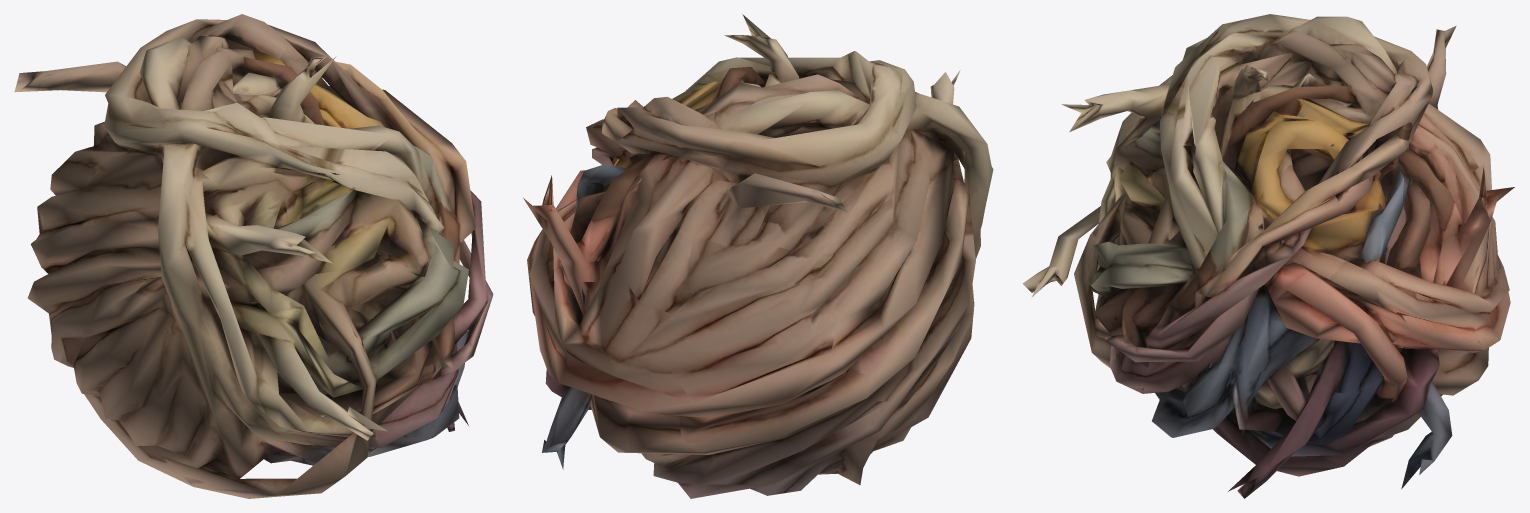
Rendered from cable-ball.glb.
3 views of the same model, side by side, from view 1: azimuth 30°, elevation 25°; view 2: azimuth 150°, elevation 25°; view 3: azimuth 270°, elevation 25° (orthographic). The views are drawn at different scales.
Visible parts, largest first — view 1: tripo_node_01a308a8-fe2e-421f-9cad-6132b33cbd5f; view 2: tripo_node_01a308a8-fe2e-421f-9cad-6132b33cbd5f; view 3: tripo_node_01a308a8-fe2e-421f-9cad-6132b33cbd5f.
Part boxes in pixels (x1=…): tripo_node_01a308a8-fe2e-421f-9cad-6132b33cbd5f: x1=14, y1=14, x2=493, y2=498; tripo_node_01a308a8-fe2e-421f-9cad-6132b33cbd5f: x1=523, y1=14, x2=993, y2=498; tripo_node_01a308a8-fe2e-421f-9cad-6132b33cbd5f: x1=1022, y1=14, x2=1514, y2=498.
Size of the model in its own units: 0.8174 by 0.8712 by 0.9859.
1 material, 1 textured.
